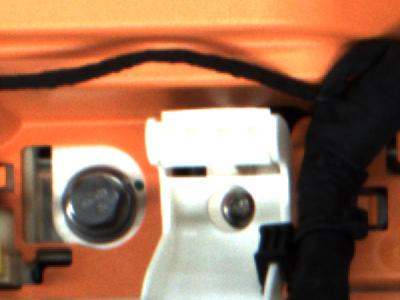nut_b: (59, 165, 142, 244)
